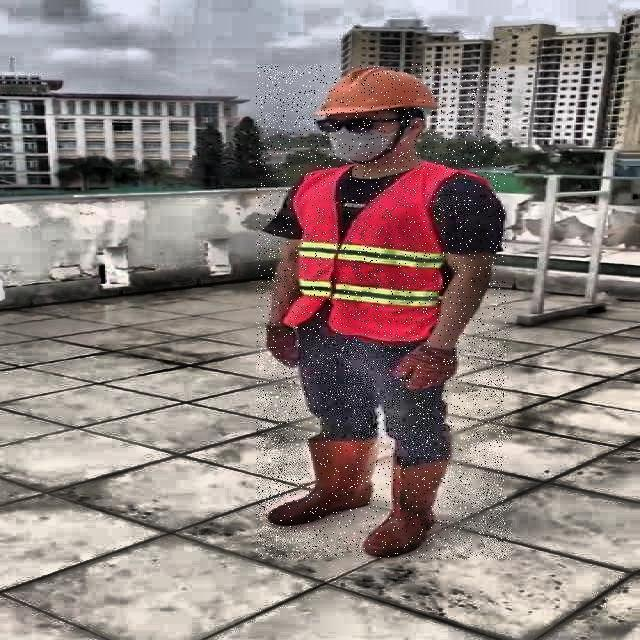safety_helmet: (315, 64, 439, 119)
safety_jacket: (286, 164, 452, 340)
